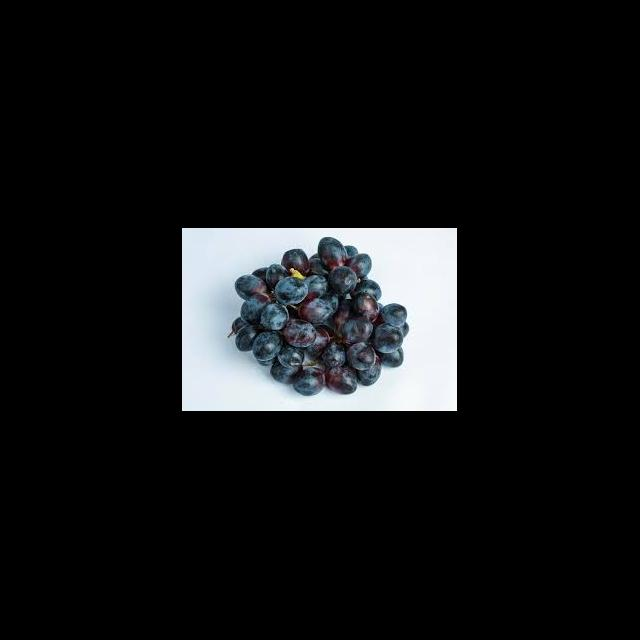grape: (228, 236, 410, 396)
